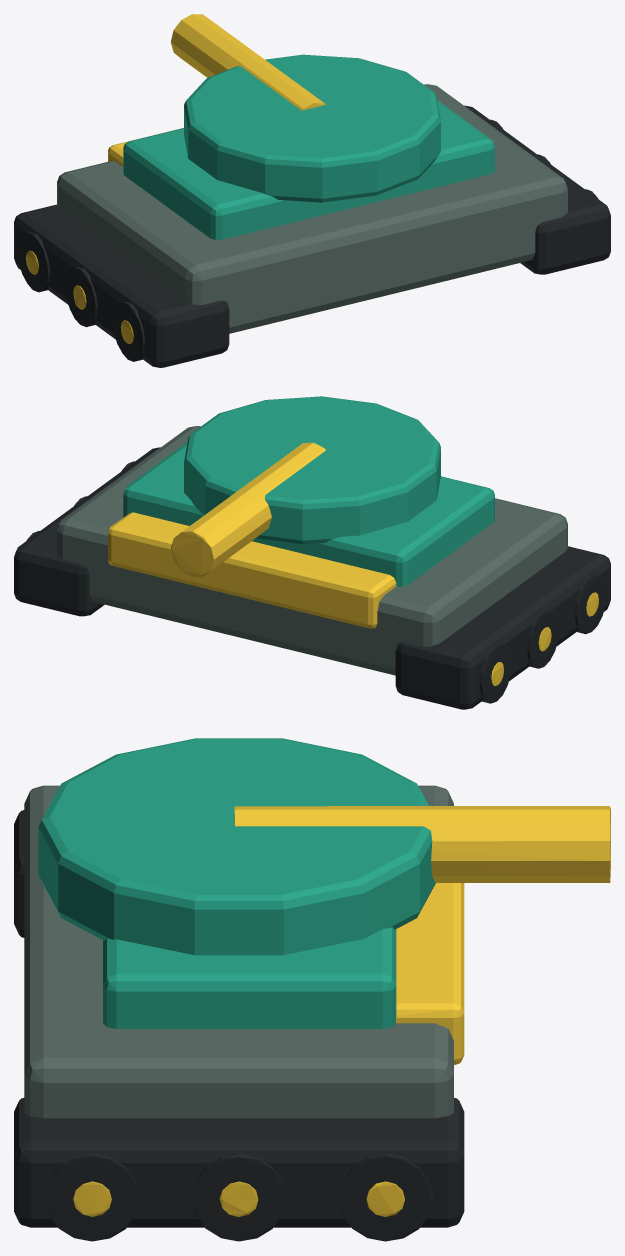
Rendered from SM_Coalition_CO_QinglongMBT_LOD1.fbx.
3 renders of one model, top to bottom at view 1: azimuth 30°, elevation 25°; view 2: azimuth 150°, elevation 25°; view 3: azimuth 270°, elevation 25°, orthographic. The views are drawn at different scales.
Parts seen in each view (by area): view 1: LOD01_SM_Coalition_CO_QinglongMBT; view 2: LOD01_SM_Coalition_CO_QinglongMBT; view 3: LOD01_SM_Coalition_CO_QinglongMBT.
Part boxes in pixels (<box>): LOD01_SM_Coalition_CO_QinglongMBT: <box>14,14,610,367</box>; LOD01_SM_Coalition_CO_QinglongMBT: <box>14,396,610,709</box>; LOD01_SM_Coalition_CO_QinglongMBT: <box>14,738,610,1241</box>.
Size of the model in its own units: 525 by 376 by 179.
